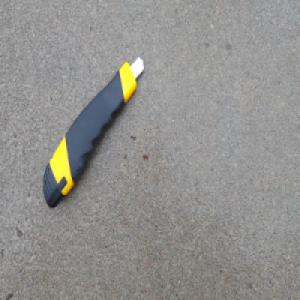Cutter: (43, 54, 145, 210)
